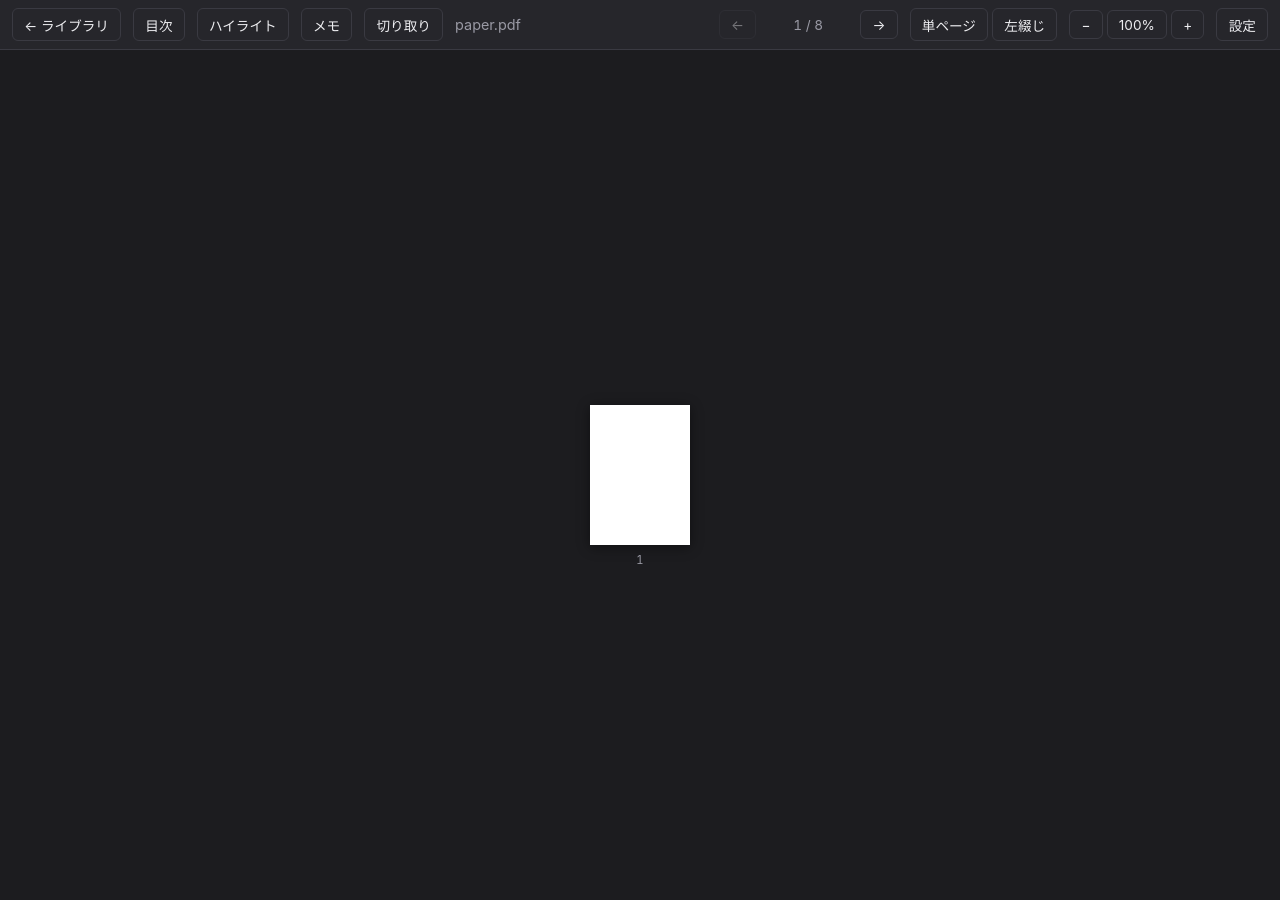
Test: PdfViewer › table of contents sidebar › hides and restores a bookmark's children
Step 1. Click the button "目次" → {"x": 159, "y": 25}, box [133,8,185,41]
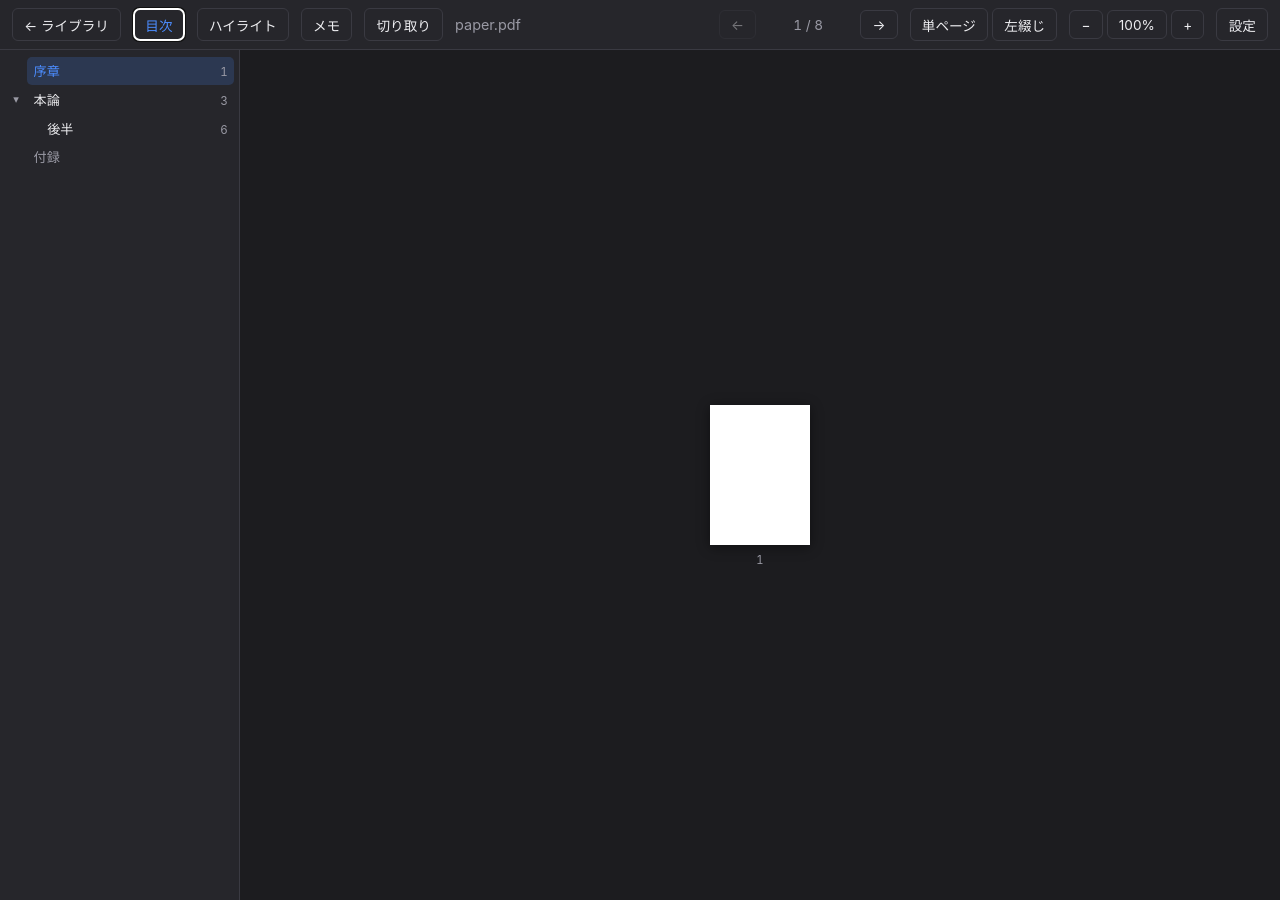
Expected: the list named "目次" is shown, [6,57,234,171]
Step 2. Click the button named "本論 を折りたたむ" → {"x": 16, "y": 100}, box [6,94,26,105]
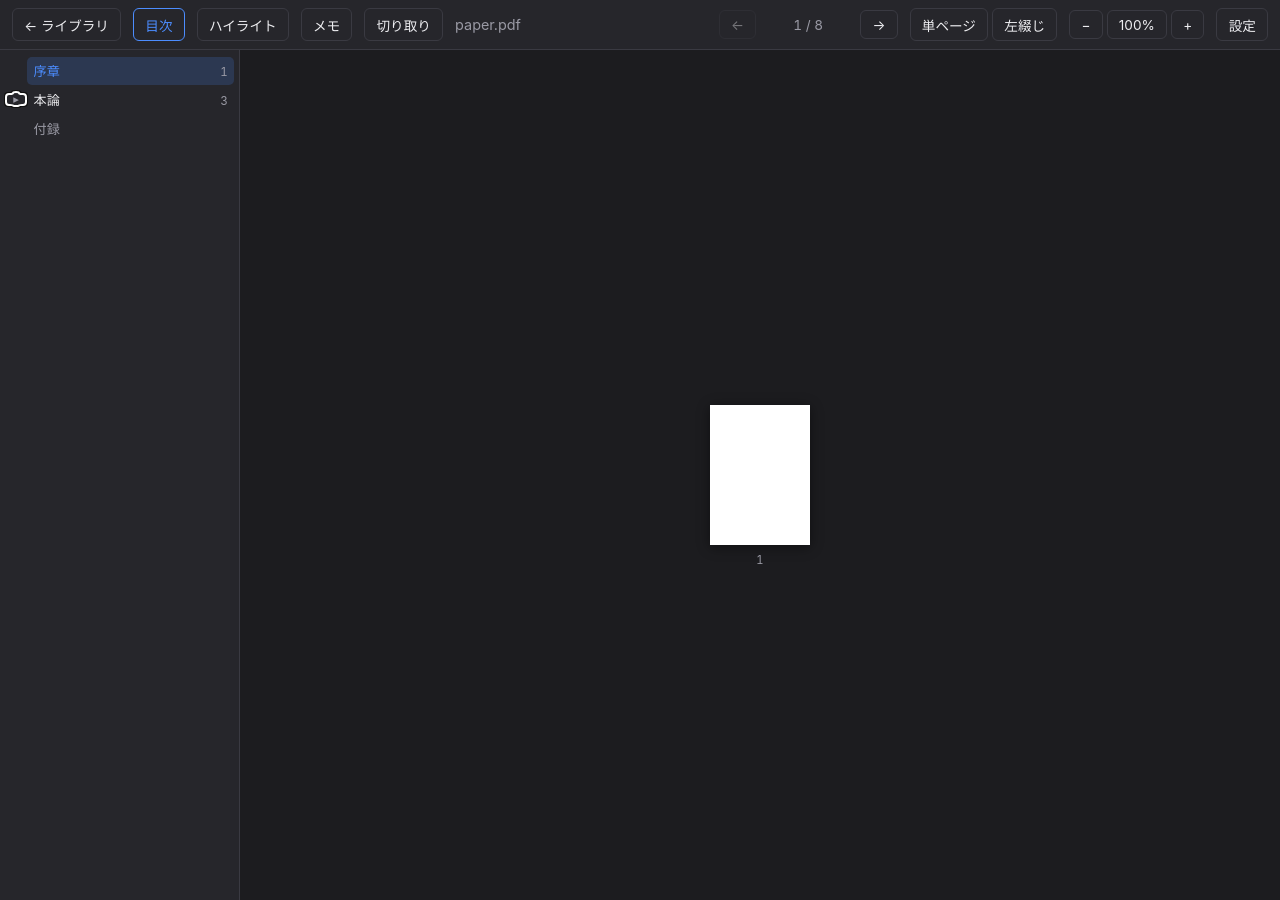
Expected: the button "後半" is gone
Step 3. Click the button named "本論 を展開する" → {"x": 16, "y": 100}, box [6,94,26,105]
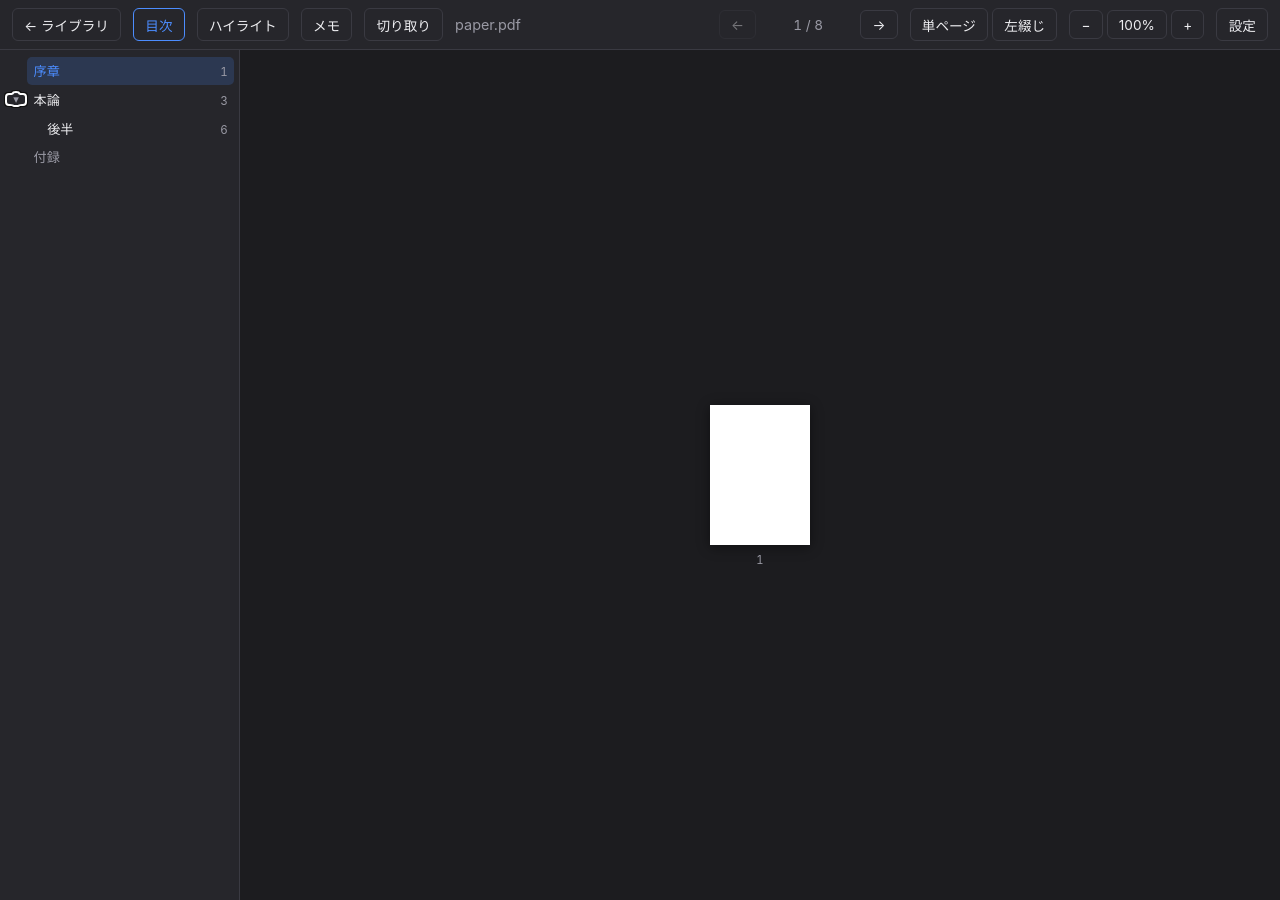
Expected: the button "後半 6" is shown, [41,114,234,142]
